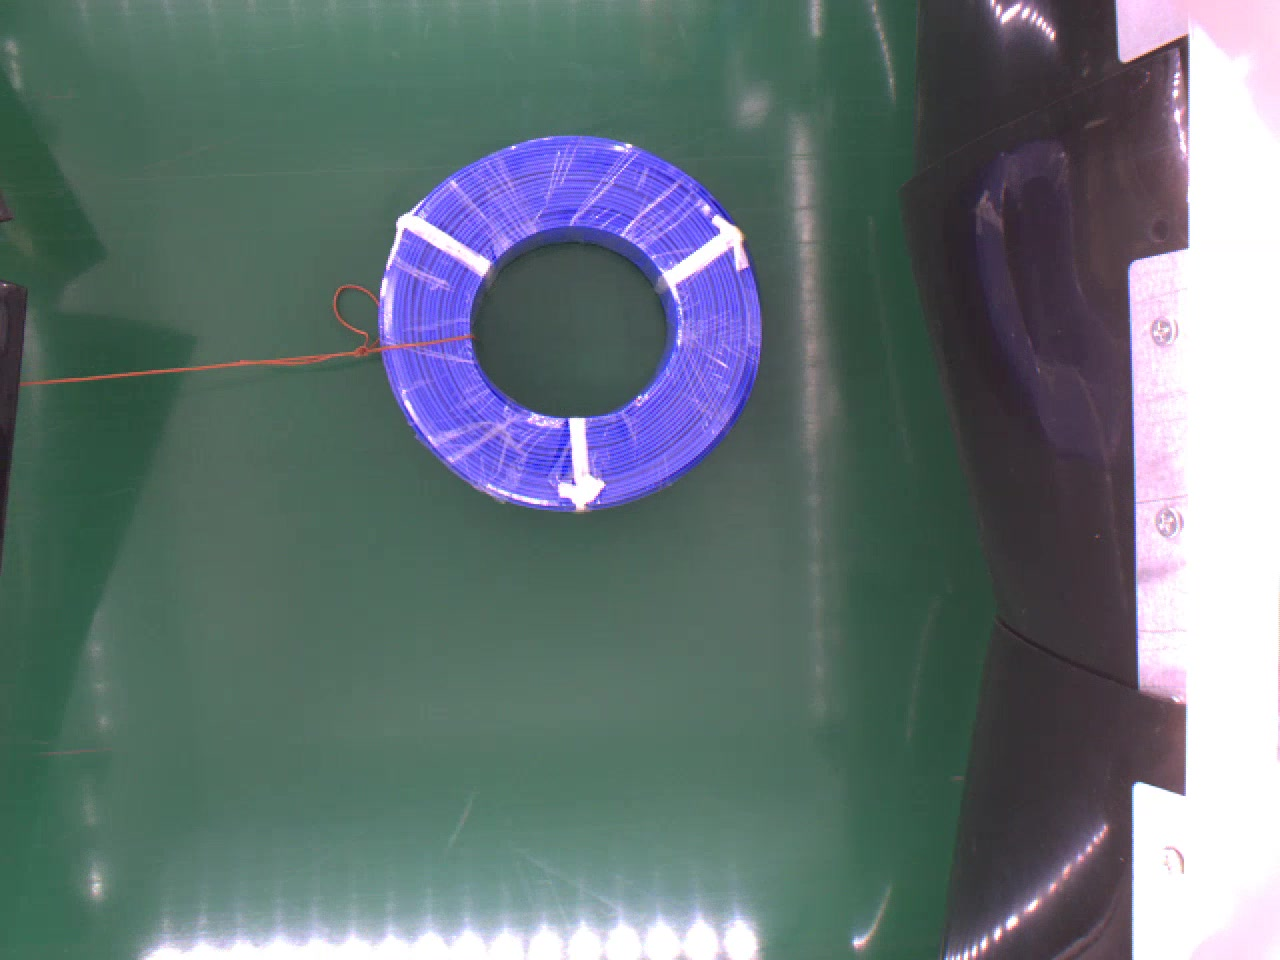blue: (371, 129, 767, 510)
